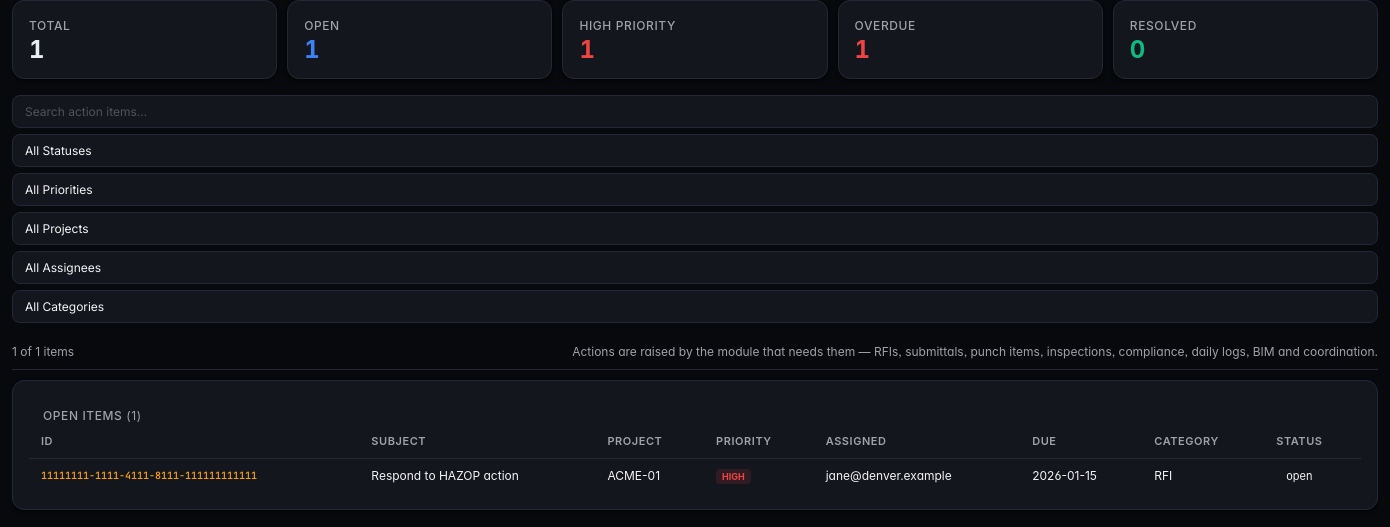
Scenario: the view answers from the record, not from the request › reflects the server row after a successful transition
Click the text "Respond to HAZOP action": (477, 475) [359, 458, 595, 493]
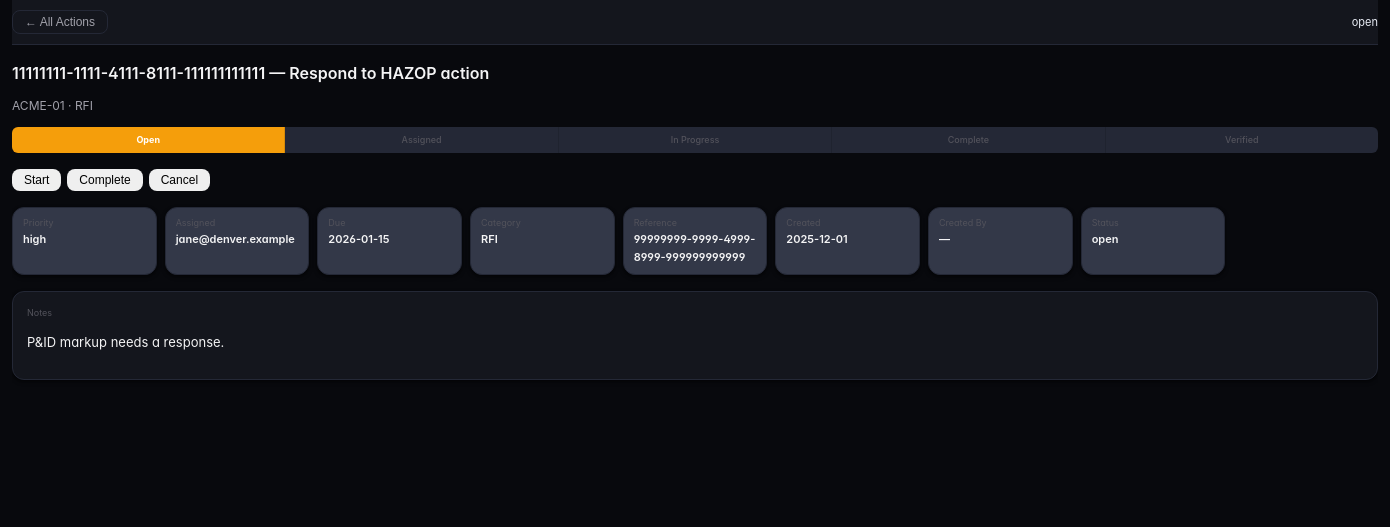
Check: the button "← All Actions" is shown, box [12, 10, 108, 34]
Click the button "Complete": (105, 180) [67, 168, 143, 190]
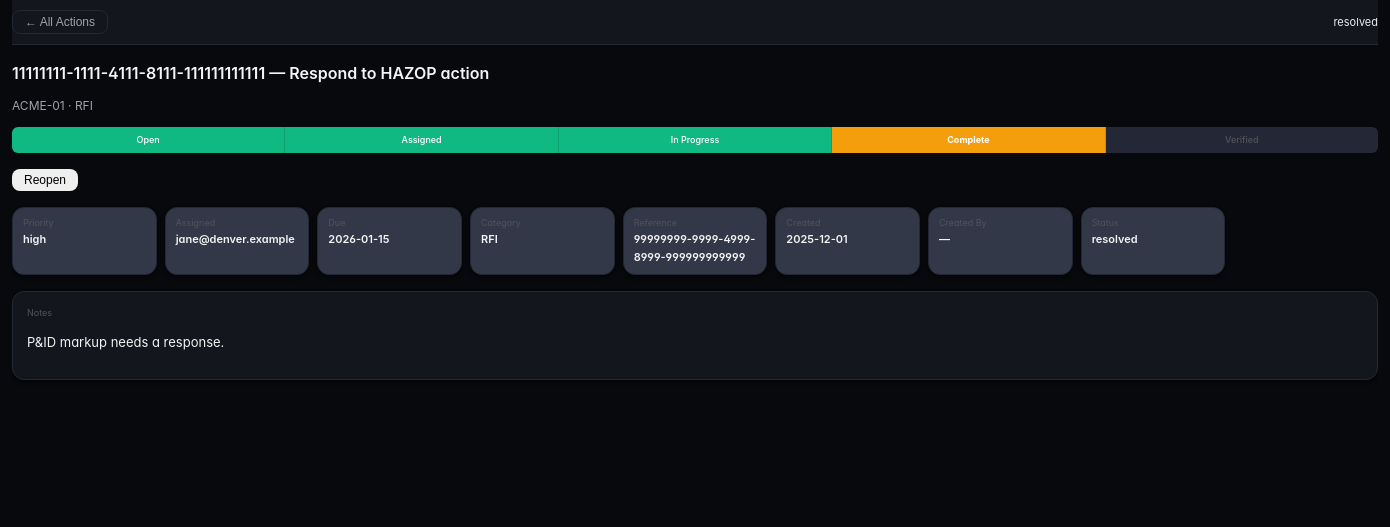
Check: the button "Reopen" is shown, box [12, 168, 78, 190]
